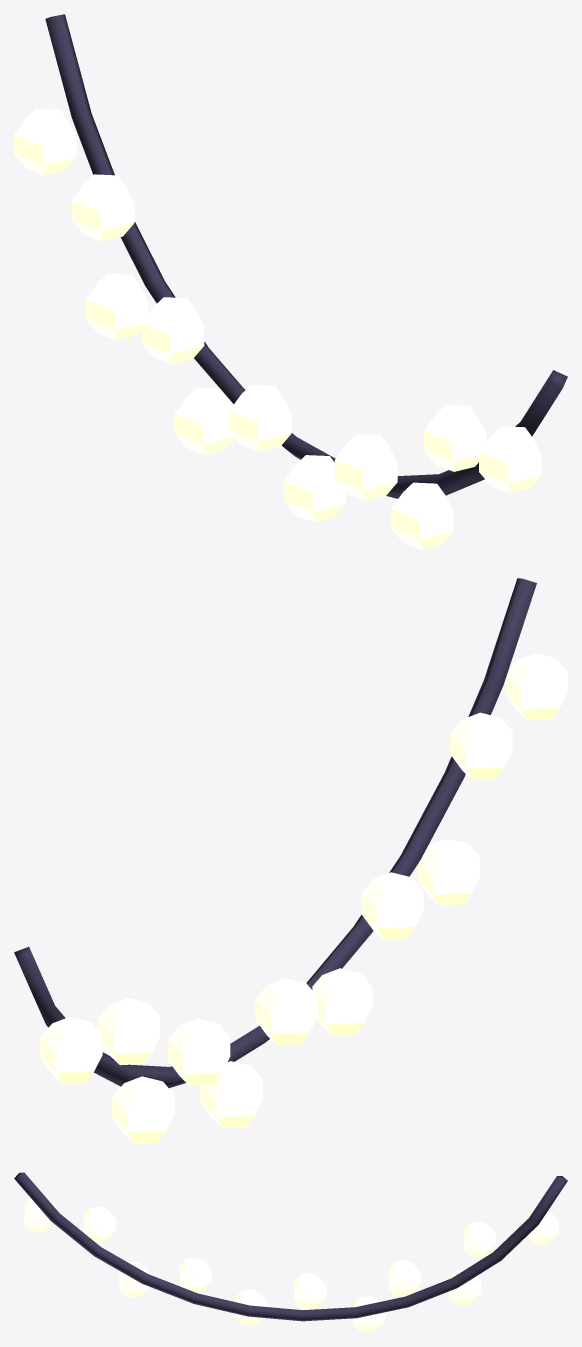
Rendered from SM_garland_01.fbx.
The picture shows the model from 3 angles, top to bottom: view 1: azimuth 30°, elevation 25°; view 2: azimuth 150°, elevation 25°; view 3: azimuth 270°, elevation 25°; orthographic projection. The views are drawn at different scales.
Parts seen in each view (by area): view 1: garland_01, garland_wire_01; view 2: garland_01, garland_wire_01; view 3: garland_01, garland_wire_01.
Part boxes in pixels (box(x1,y1,x2,y2)): garland_01: box(14, 108, 541, 549); garland_wire_01: box(45, 14, 567, 498); garland_01: box(40, 653, 567, 1143); garland_wire_01: box(14, 578, 536, 1088); garland_01: box(24, 1198, 558, 1332); garland_wire_01: box(14, 1172, 567, 1321).
Bounding box in the file's own units: 18.14 × 81.25 × 245.
